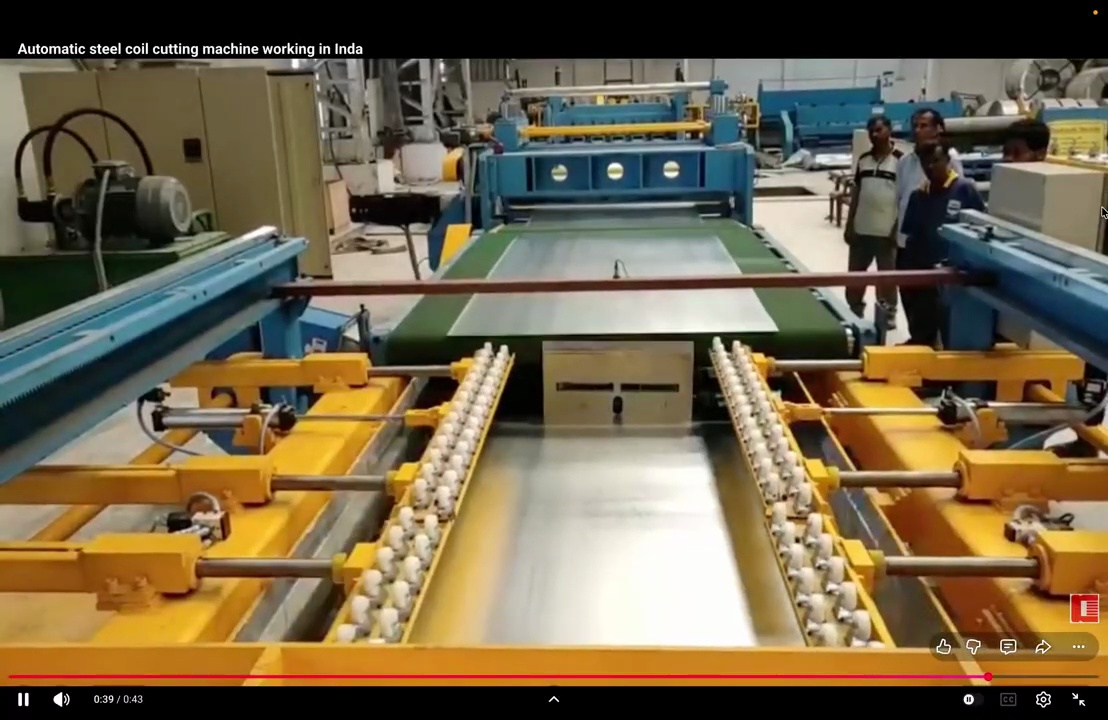steel plate: (449, 289, 777, 336), (527, 208, 702, 228)
